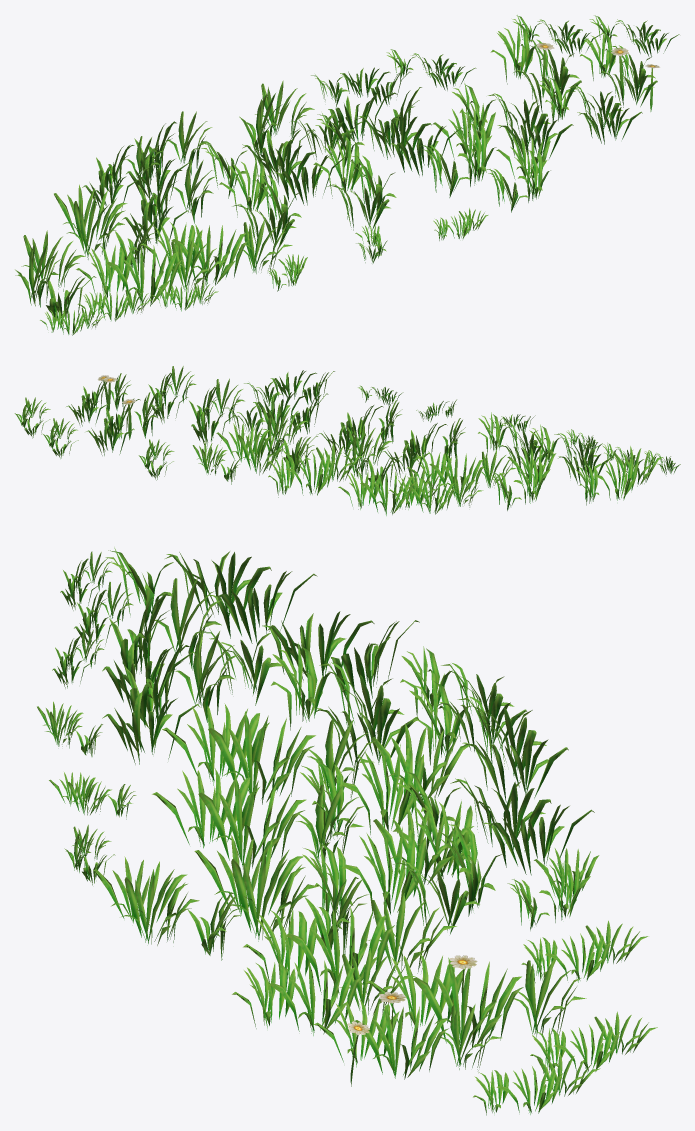
Rendered from huahua_02.fbx.
3 views of the same model, one above another, from view 1: azimuth 30°, elevation 25°; view 2: azimuth 150°, elevation 25°; view 3: azimuth 270°, elevation 25° (orthographic). The views are drawn at different scales.
Parts seen in each view (by area): view 1: polySurface1751; view 2: polySurface1751; view 3: polySurface1751.
Part boxes in pixels (x1,y1,x2,y2): polySurface1751: [15, 15, 679, 335]; polySurface1751: [14, 366, 680, 515]; polySurface1751: [37, 547, 657, 1115].
Size of the model in its own units: 1789 by 126 by 860.
